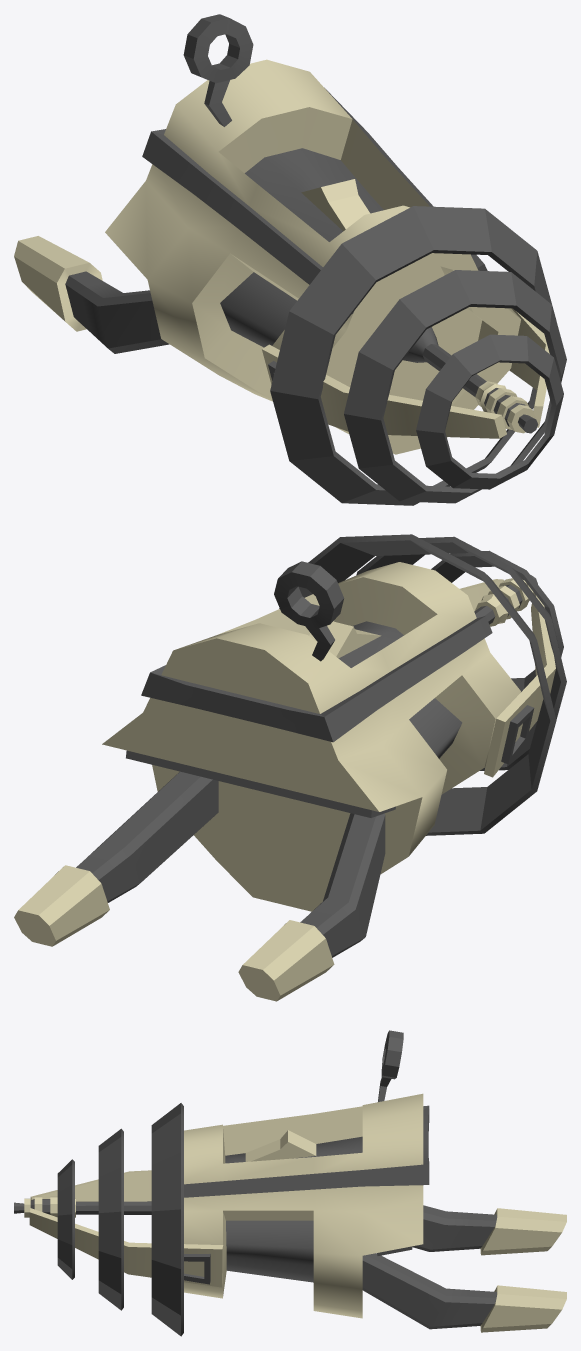
File: lightninggunmodel.fbx
3 views of the same model, one above another, from view 1: azimuth 30°, elevation 25°; view 2: azimuth 150°, elevation 25°; view 3: azimuth 270°, elevation 25° (orthographic). The views are drawn at different scales.
Parts seen in each view (by area): view 1: lightninggun, pCylinder49, pCube39, pCube40, pCylinder42; view 2: lightninggun, pCube39, pCylinder49, pCube40, pCylinder42; view 3: lightninggun, pCylinder49, pCube39, pCube40, pCylinder42.
Part boxes in pixels (x1,y1,x2,y2): lightninggun: (105,59,520,454); pCylinder49: (270,206,566,505); pCube39: (14,236,169,353); pCube40: (262,308,549,438); pCylinder42: (183,14,253,126); lightninggun: (102,562,520,911); pCube39: (14,771,385,1001); pCylinder49: (279,534,566,835); pCube40: (460,579,555,777); pCylinder42: (274,561,344,661); lightninggun: (184,1093,429,1318); pCylinder49: (14,1103,183,1336); pCube39: (362,1205,566,1332); pCube40: (29,1170,223,1287); pCylinder42: (378,1030,403,1101).
Size of the model in its own units: 2.49 by 3.23 by 5.85.
